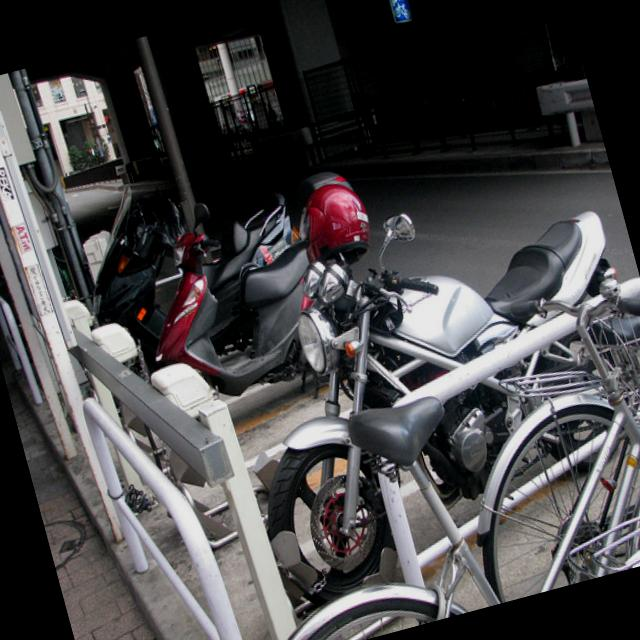Vehicle: (195, 160, 640, 607), (115, 158, 402, 412), (69, 168, 324, 386)
